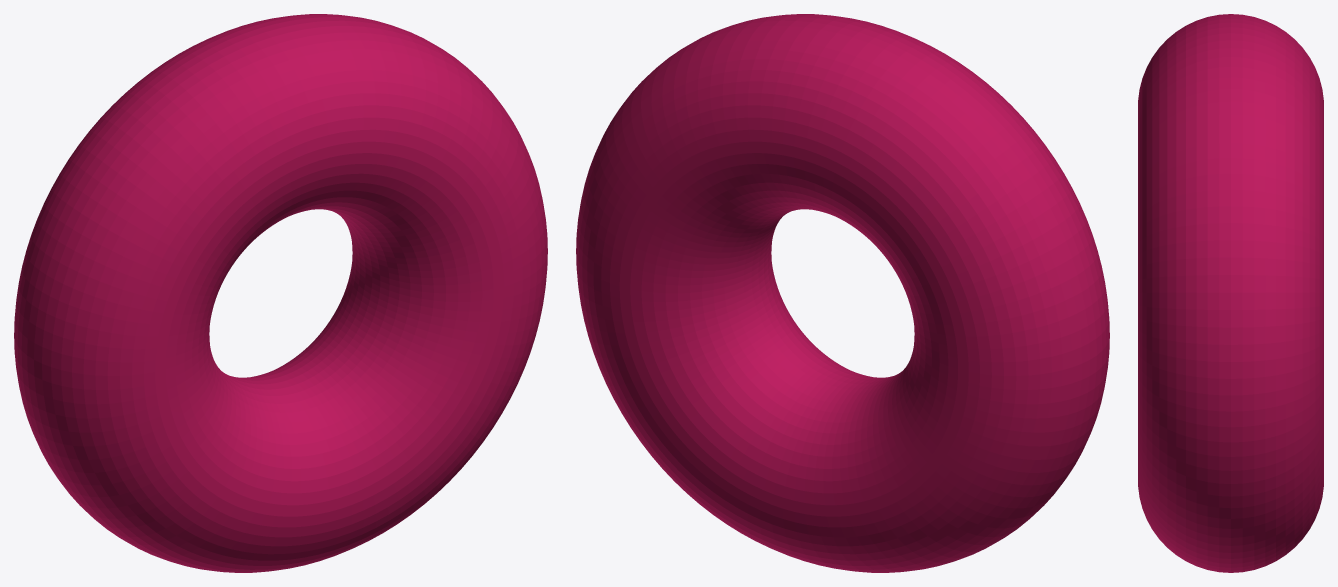
The picture shows the model from 3 angles, left to right: view 1: azimuth 30°, elevation 25°; view 2: azimuth 150°, elevation 25°; view 3: azimuth 270°, elevation 25°; orthographic projection. The views are drawn at different scales.
Visible parts, largest first — view 1: world; view 2: world; view 3: world.
Part boxes in pixels (left/top/right/bottom): world: left=14, top=14, right=547, bottom=572; world: left=576, top=14, right=1109, bottom=572; world: left=1138, top=14, right=1323, bottom=572.
Bounding box in the file's own units: 22 × 22 × 7.32.
